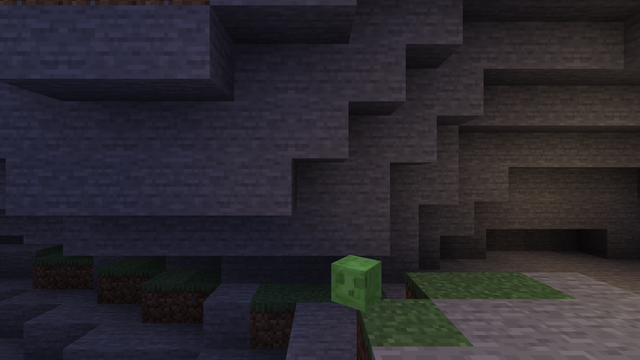slimes: (336, 255, 379, 308)
